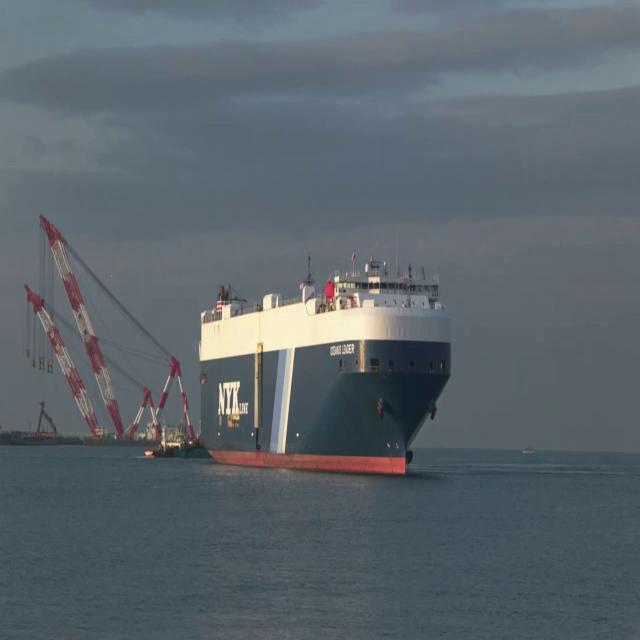OCR: (218, 378, 250, 421), (326, 342, 356, 361)
